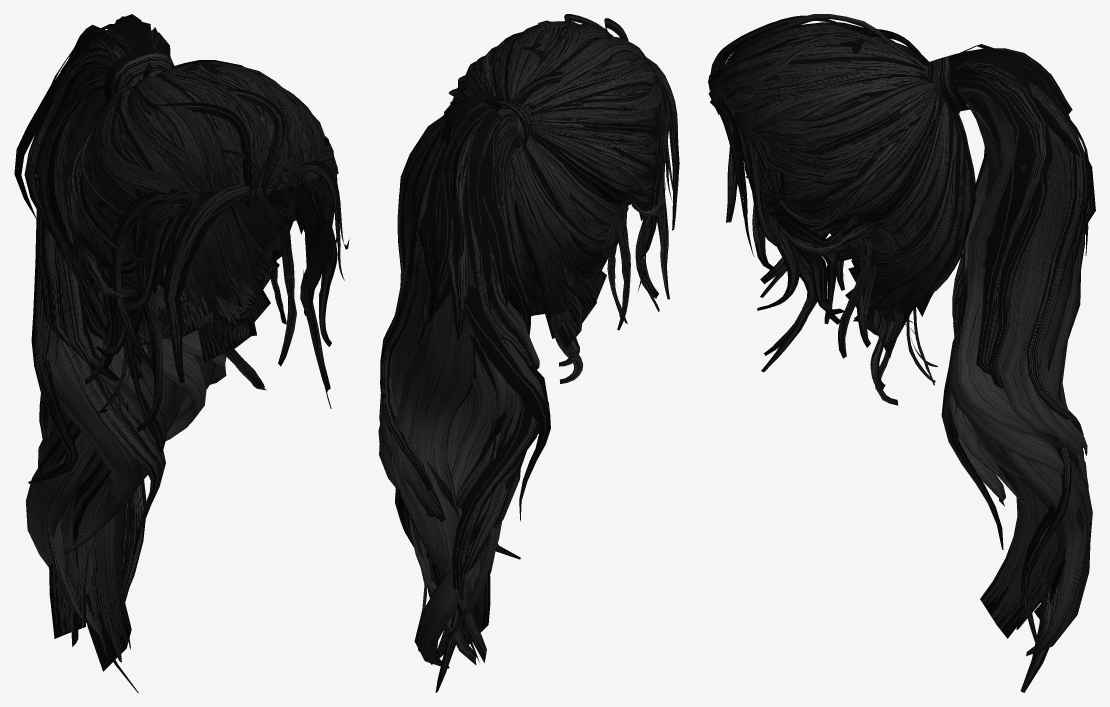
The model's file is Hair_1.fbx.
3 renders of one model, left to right at view 1: azimuth 30°, elevation 25°; view 2: azimuth 150°, elevation 25°; view 3: azimuth 270°, elevation 25°, orthographic. The views are drawn at different scales.
Visible parts, largest first — view 1: avaturn_hair_1, avaturn_hair_0; view 2: avaturn_hair_1, avaturn_hair_0; view 3: avaturn_hair_1, avaturn_hair_0.
Boxes of the visible parts, box(x1,y1,x2,y2) form: avaturn_hair_1: box(14, 14, 349, 692); avaturn_hair_0: box(25, 44, 328, 671); avaturn_hair_1: box(378, 14, 679, 692); avaturn_hair_0: box(379, 85, 648, 668); avaturn_hair_1: box(708, 14, 1095, 692); avaturn_hair_0: box(752, 77, 1090, 657).
Bounding box in the file's own units: 20.07 × 57.88 × 31.61.
